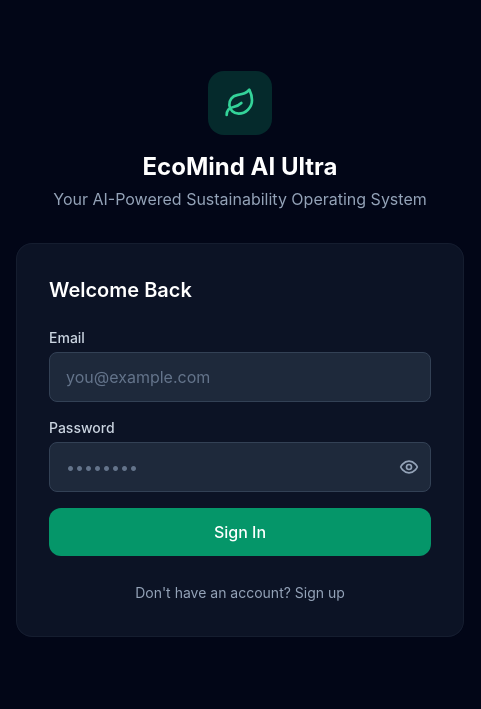
it: Integration: Authentication Flow › should switch to sign-up form
Step 1. Click the button "Don't have an account? Sign up" → (240, 593), box [135,583,345,603]
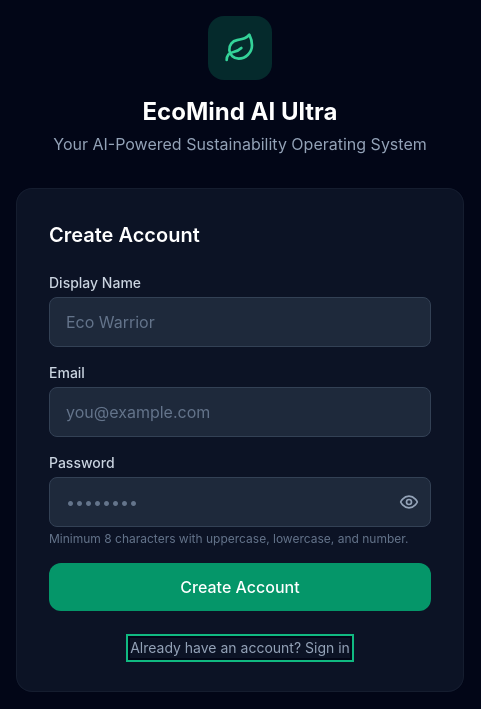
Expected: the heading "Create Account" is shown, [49,223,200,247]
Expected: the field labelled "Display Name" is shown, [49,297,431,347]
